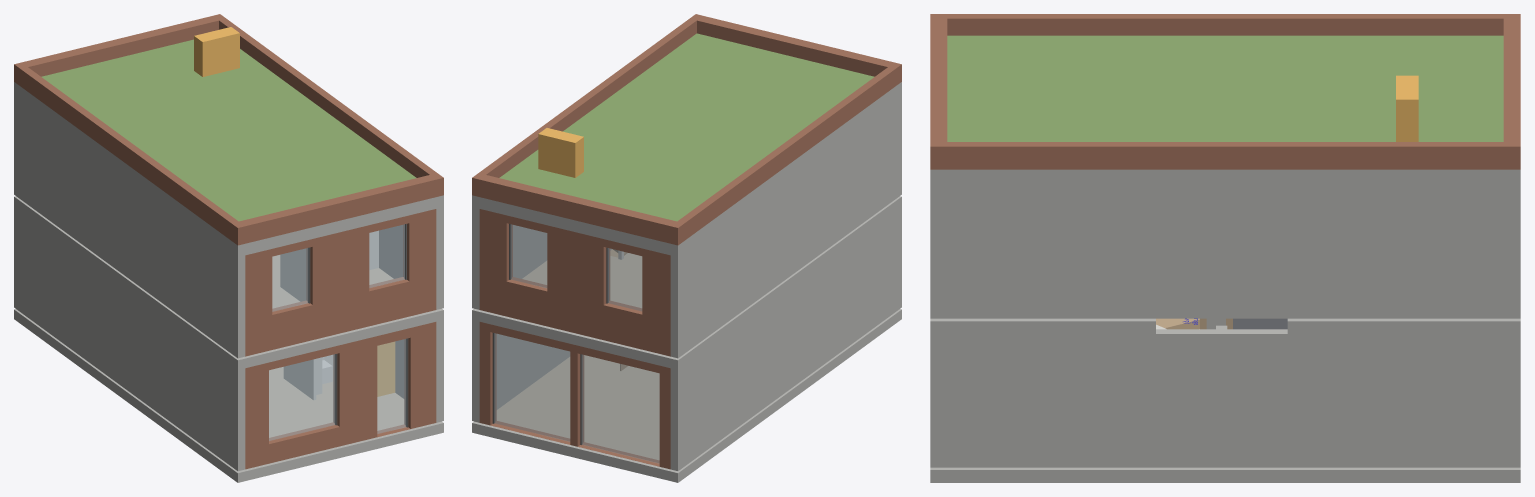
File: house24.glb
3 views of the same model, side by side, from view 1: azimuth 30°, elevation 25°; view 2: azimuth 150°, elevation 25°; view 3: azimuth 270°, elevation 25° (orthographic). The views are drawn at different scales.
Parts seen in each view (by area): view 1: greenroof, partywall_L, partywall_L.001, facade_front_1F.001, parapet.002, roofslab, slab0, parapet.001, glass.002, facade_front_GF.001, parapet.003, floor0 (+22 smaller); view 2: greenroof, partywall_L, partywall_L.001, floor0, glass, glass.001, facade_back_1F.001, parapet.002, roofslab, slab0, parapet, parapet.003 (+21 smaller); view 3: partywall_R, partywall_R.001, greenroof, parapet.003, parapet.002, roofslab, slab0, slab1, slab1.001, parapet, parapet.001, roof_hp_outdoor_ASSUMED (+1 smaller).
Boxes of the visible parts, left/top/right/bottom form: greenroof: left=41, top=39, right=416, bottom=221; partywall_L: left=14, top=206, right=245, bottom=470; partywall_L.001: left=14, top=93, right=245, bottom=358; facade_front_1F.001: left=306, top=225, right=369, bottom=339; parapet.002: left=20, top=67, right=238, bottom=240; roofslab: left=14, top=82, right=443, bottom=256; slab0: left=14, top=309, right=443, bottom=482; parapet.001: left=231, top=173, right=443, bottom=245; glass.002: left=269, top=354, right=335, bottom=440; facade_front_GF.001: left=333, top=336, right=377, bottom=446; parapet.003: left=219, top=18, right=436, bottom=177; floor0: left=269, top=367, right=404, bottom=437; greenroof: left=499, top=33, right=874, bottom=221; partywall_L: left=670, top=206, right=901, bottom=470; partywall_L.001: left=670, top=93, right=901, bottom=358; floor0: left=496, top=355, right=659, bottom=459; glass: left=582, top=354, right=659, bottom=463; glass.001: left=494, top=333, right=570, bottom=441; facade_back_1F.001: left=547, top=225, right=610, bottom=339; parapet.002: left=677, top=67, right=895, bottom=240; roofslab: left=472, top=82, right=901, bottom=256; slab0: left=472, top=309, right=901, bottom=482; parapet: left=472, top=173, right=684, bottom=245; parapet.003: left=479, top=18, right=696, bottom=177; partywall_R: left=930, top=329, right=1520, bottom=467; partywall_R.001: left=930, top=185, right=1520, bottom=318; greenroof: left=947, top=35, right=1503, bottom=141; parapet.003: left=947, top=142, right=1503, bottom=169; parapet.002: left=947, top=14, right=1503, bottom=35; roofslab: left=930, top=169, right=1520, bottom=185; slab0: left=930, top=467, right=1520, bottom=482; slab1: left=1287, top=318, right=1520, bottom=333; slab1.001: left=930, top=318, right=1155, bottom=333; parapet: left=1503, top=14, right=1520, bottom=169; parapet.001: left=930, top=14, right=947, bottom=169; roof_hp_outdoor_ASSUMED: left=1396, top=75, right=1418, bottom=141.
Size of the model in its own units: 5.54 by 7.12 by 10.42.
